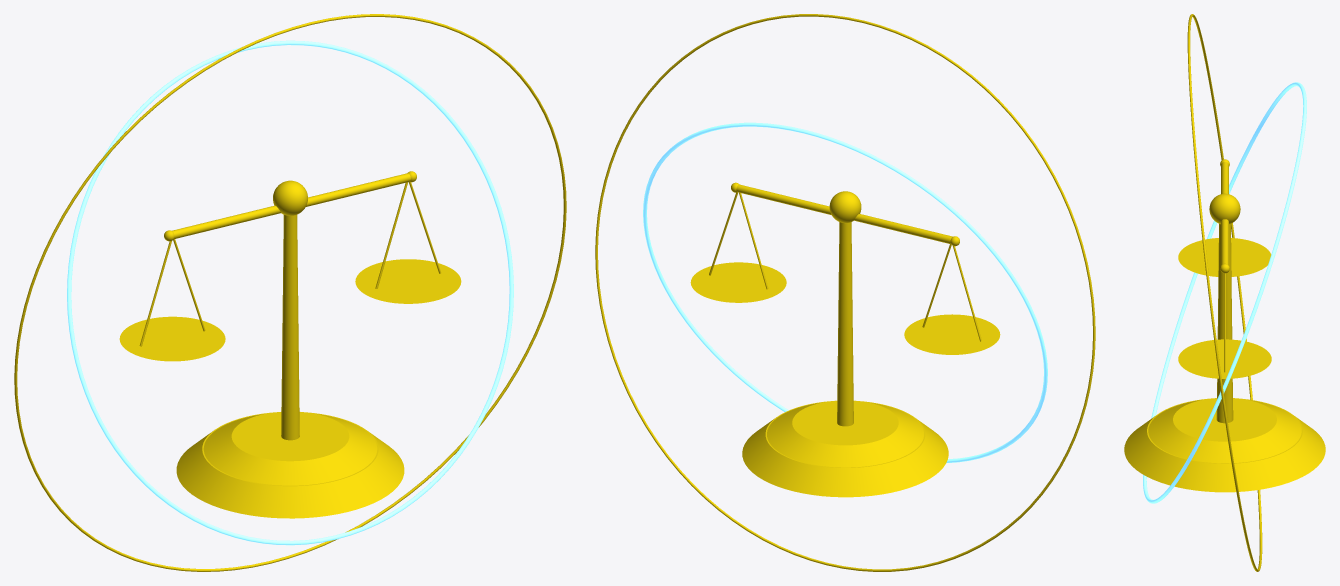
File: timbangan.glb
3 renders of one model, left to right at view 1: azimuth 30°, elevation 25°; view 2: azimuth 150°, elevation 25°; view 3: azimuth 270°, elevation 25°, orthographic. The views are drawn at different scales.
Parts seen in each view (by area): view 1: Timbangan; view 2: Timbangan; view 3: Timbangan.
Part boxes in pixels (x1=…): Timbangan: x1=14, y1=14, x2=566, y2=571; Timbangan: x1=595, y1=14, x2=1095, y2=571; Timbangan: x1=1124, y1=14, x2=1325, y2=571.
Size of the model in its own units: 8.64 by 8.57 by 3.1.
